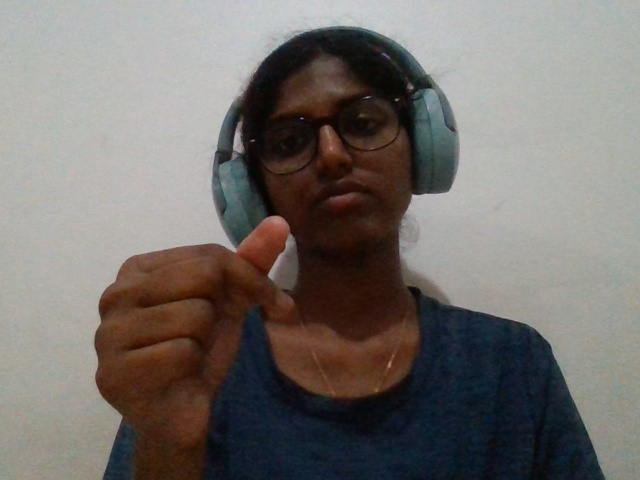G: (50, 200, 388, 469)
